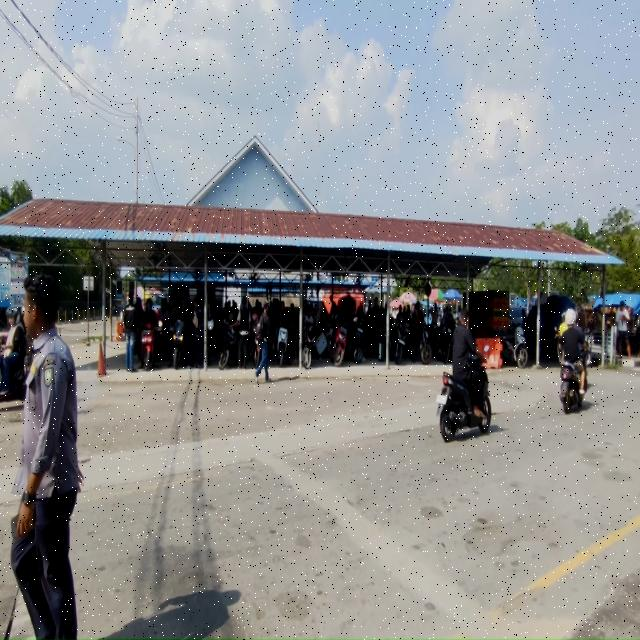Golongan II: (436, 346, 492, 442), (559, 352, 588, 414), (503, 326, 528, 369), (141, 322, 162, 371), (436, 316, 456, 364), (329, 314, 347, 366), (219, 322, 237, 371), (302, 322, 319, 370), (348, 318, 365, 364), (394, 317, 408, 365), (276, 319, 289, 367), (172, 319, 184, 370), (419, 322, 433, 364), (251, 313, 260, 368)
